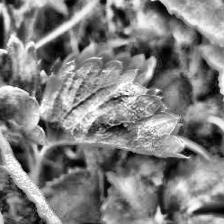Powdery Mildew Leaf: (36, 56, 192, 160), (0, 105, 103, 224), (0, 28, 49, 147)
